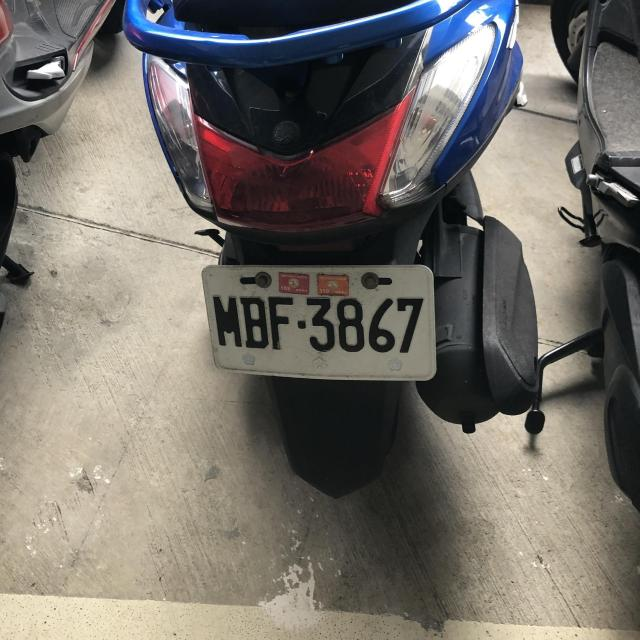W: (198, 259, 435, 382)
